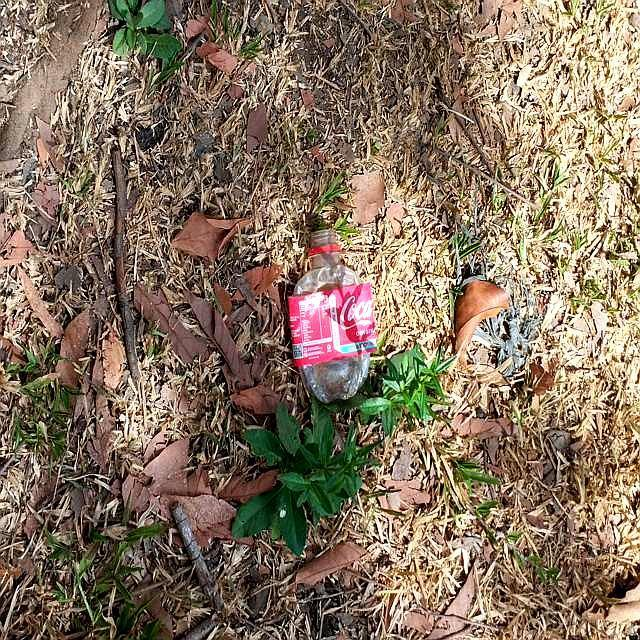Non-biodegradable: (285, 225, 380, 406)
